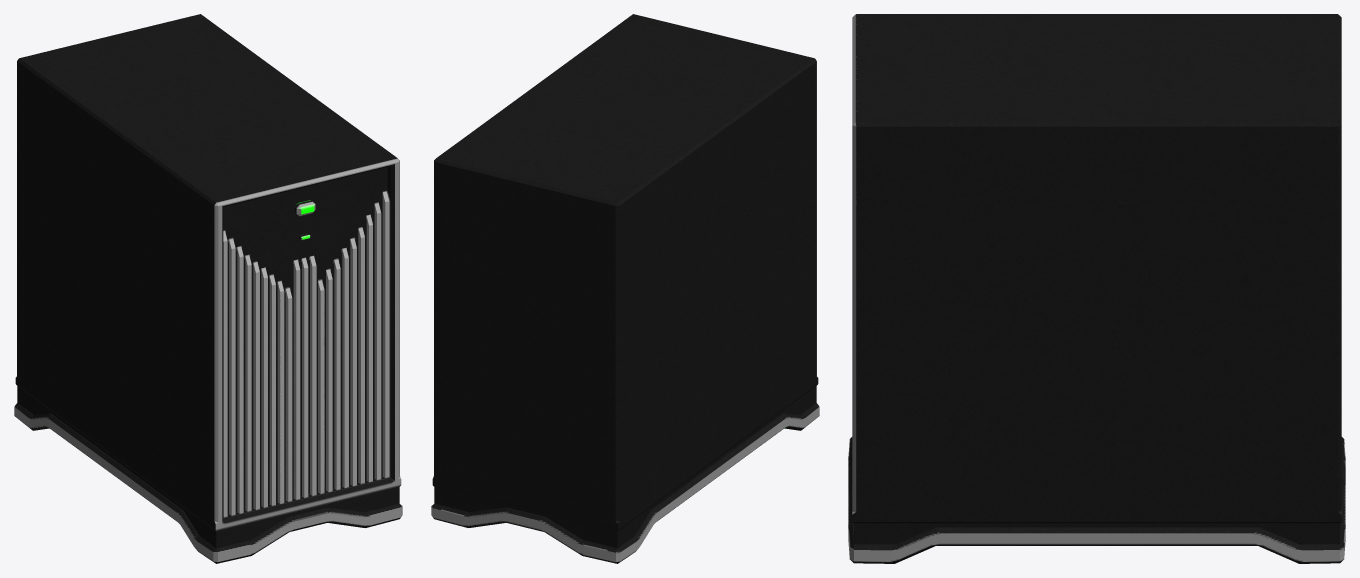
File: Desktop3.fbx
The picture shows the model from 3 angles, left to right: view 1: azimuth 30°, elevation 25°; view 2: azimuth 150°, elevation 25°; view 3: azimuth 270°, elevation 25°; orthographic projection. The views are drawn at different scales.
Parts seen in each view (by area): view 1: Desktop3Baked; view 2: Desktop3Baked; view 3: Desktop3Baked.
Boxes of the visible parts, left/top/right/bottom form: Desktop3Baked: left=14, top=14, right=402, bottom=563; Desktop3Baked: left=431, top=14, right=819, bottom=563; Desktop3Baked: left=848, top=14, right=1345, bottom=563.
Bounding box in the file's own units: 111 × 200 × 205.
